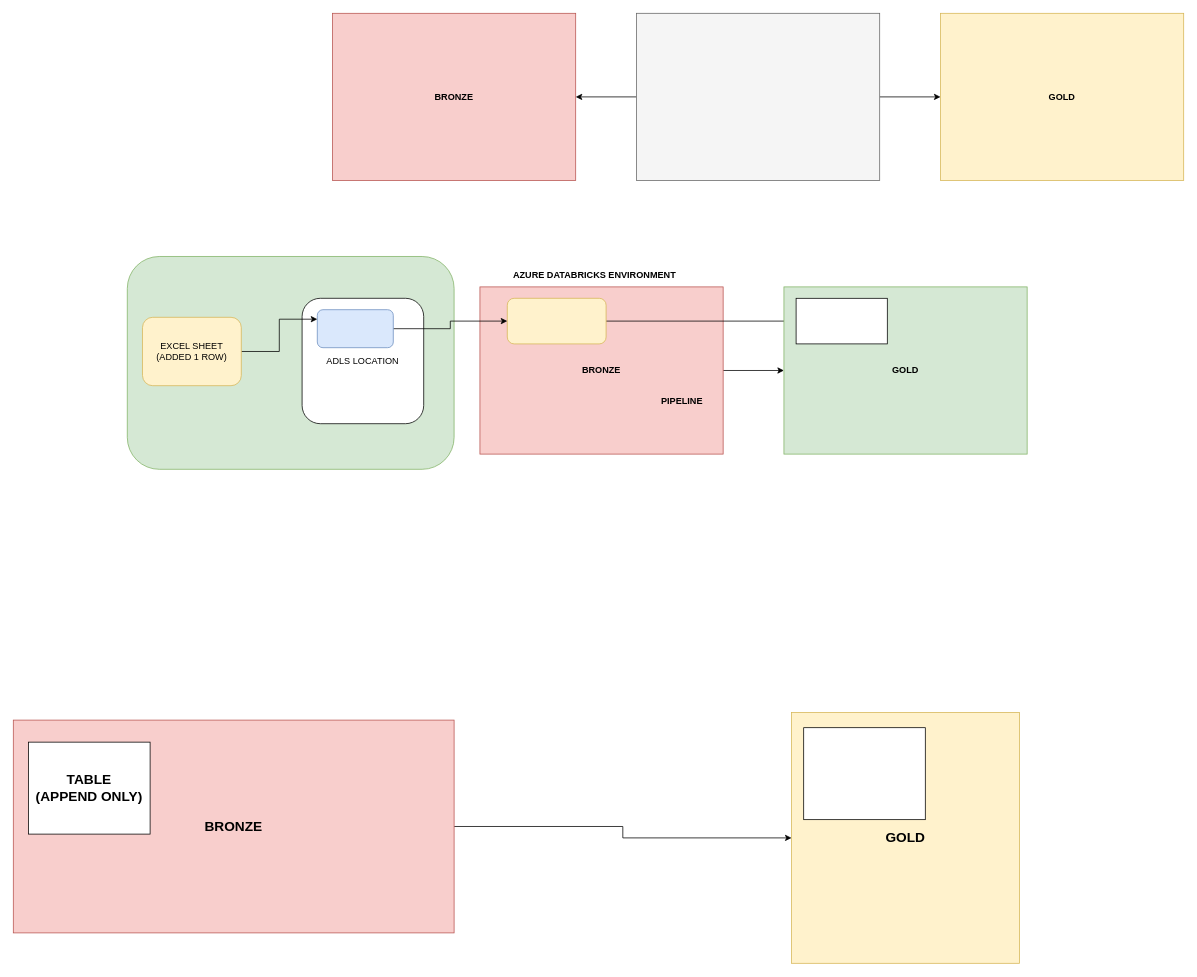
This 1197x977 diagram has some shape labels left out. Each missing label, with the centre of its shape:
"EXTERNAL TABLE (50 COLUMNS)" belongs at pixel 556 321.
"GOLD VIEW (10 column)" belongs at pixel 841 321.
"PARQUET ( ADDED 1 ROW)" belongs at pixel 355 328.
"SILVER" belongs at pixel 758 96.
"TABLE (FULL LOAD)" belongs at pixel 864 773.
